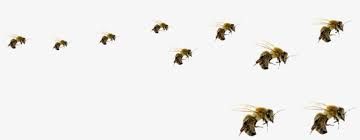insect: (235, 103, 278, 134), (307, 102, 345, 133), (254, 42, 290, 70), (317, 15, 344, 42), (215, 20, 238, 42), (5, 32, 27, 51), (172, 46, 191, 65), (150, 18, 168, 33), (97, 31, 115, 45), (51, 38, 68, 52)
